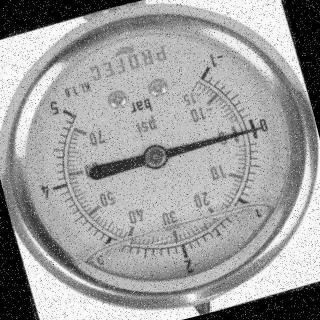gauge: (0, 0, 320, 314), (189, 50, 227, 87), (48, 94, 81, 128), (140, 141, 170, 172), (252, 119, 268, 136)
